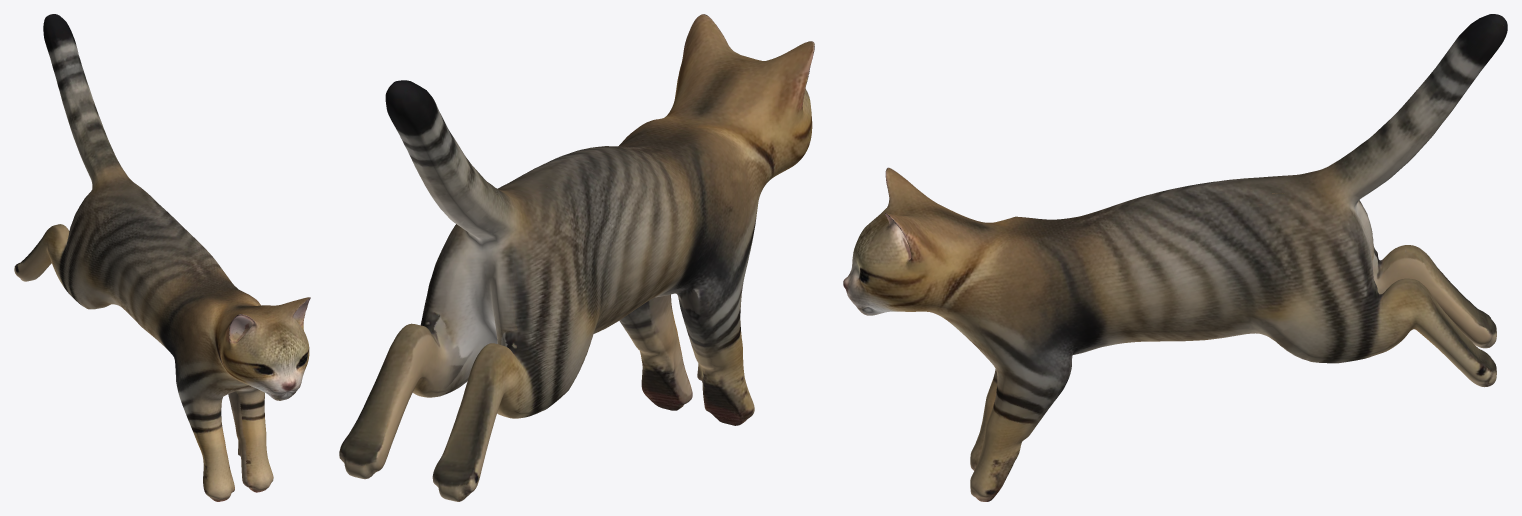
The model's file is cat_jumping.glb.
The picture shows the model from 3 angles, left to right: view 1: azimuth 30°, elevation 25°; view 2: azimuth 150°, elevation 25°; view 3: azimuth 270°, elevation 25°; orthographic projection. The views are drawn at different scales.
Parts seen in each view (by area): view 1: model; view 2: model; view 3: model.
Part boxes in pixels (bbox=[...]): model: bbox=[14, 14, 310, 501]; model: bbox=[339, 14, 814, 501]; model: bbox=[843, 14, 1507, 501].
Size of the model in its own units: 0.3761 by 1.48 by 1.9.
Materials: 1 (1 with a texture image).
